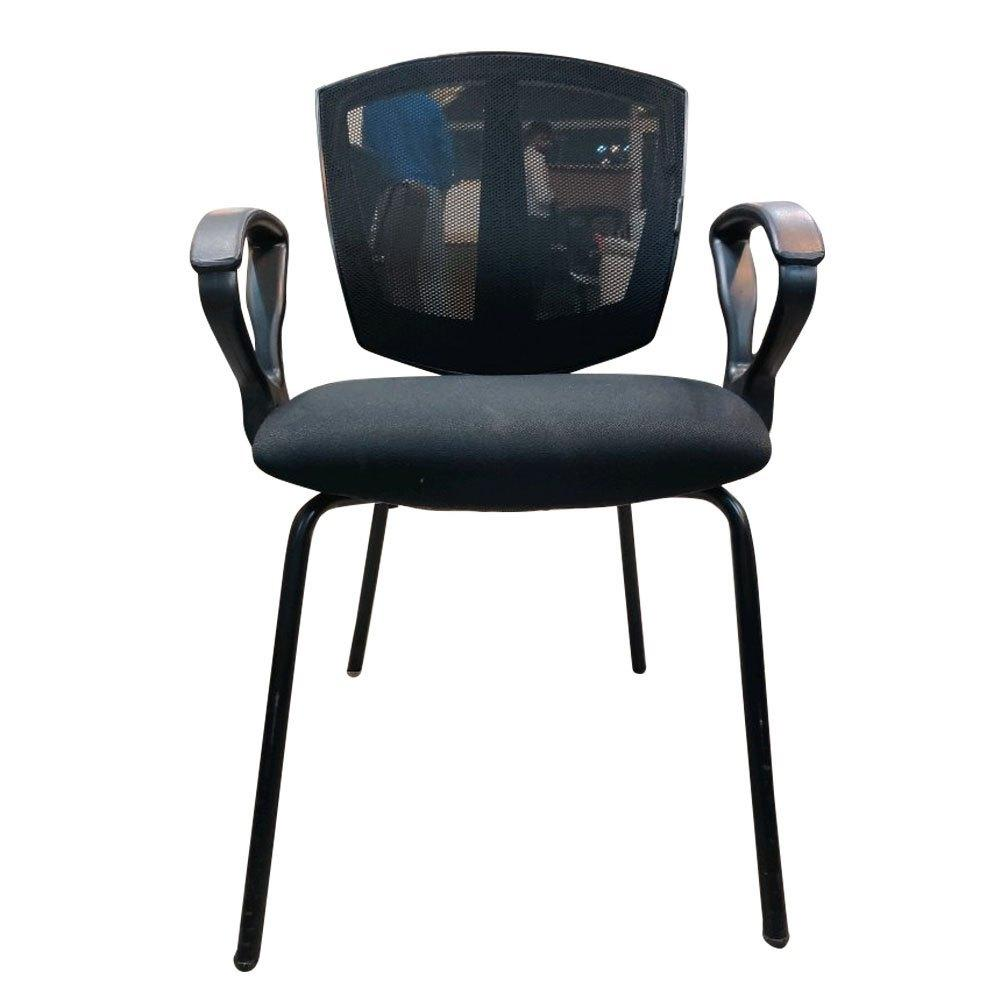chair: (142, 26, 893, 944)
